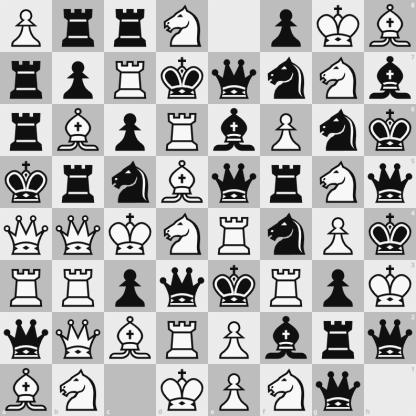B: (0, 364, 52, 416), (364, 0, 416, 52), (53, 105, 104, 156), (105, 313, 156, 364), (157, 157, 208, 208)
K: (156, 364, 209, 416), (364, 260, 416, 312), (105, 209, 156, 260), (313, 1, 364, 52)
N: (52, 364, 104, 416), (260, 364, 312, 416), (157, 1, 208, 52), (157, 209, 208, 260), (313, 53, 364, 104), (313, 157, 364, 208)
P: (209, 364, 260, 416), (1, 1, 52, 52), (209, 313, 260, 364), (261, 105, 312, 156), (313, 209, 364, 260)
Q: (1, 209, 52, 260), (53, 209, 104, 260), (53, 313, 104, 364)
R: (1, 261, 52, 312), (53, 261, 104, 312), (105, 53, 156, 104), (157, 105, 208, 156), (157, 313, 208, 364), (209, 209, 260, 260), (261, 261, 312, 312)
b: (364, 52, 416, 104), (209, 105, 260, 156), (261, 313, 312, 364)
board: (0, 0, 415, 415)
k: (364, 104, 416, 156), (364, 209, 416, 260), (1, 157, 52, 208), (157, 53, 208, 104), (209, 261, 260, 312)
n: (105, 157, 156, 208), (261, 53, 312, 104), (261, 209, 312, 260), (313, 105, 364, 156)
p: (53, 53, 104, 104), (105, 105, 156, 156), (105, 261, 156, 312), (261, 1, 312, 52), (313, 261, 364, 312)
q: (364, 156, 416, 209), (312, 364, 364, 416), (364, 312, 416, 364), (1, 313, 52, 364), (157, 261, 208, 312), (209, 53, 260, 104), (209, 157, 260, 208)
r: (1, 53, 52, 104), (1, 105, 52, 156), (53, 1, 104, 52), (53, 157, 104, 208), (105, 1, 156, 52), (261, 157, 312, 208), (313, 313, 364, 364)
